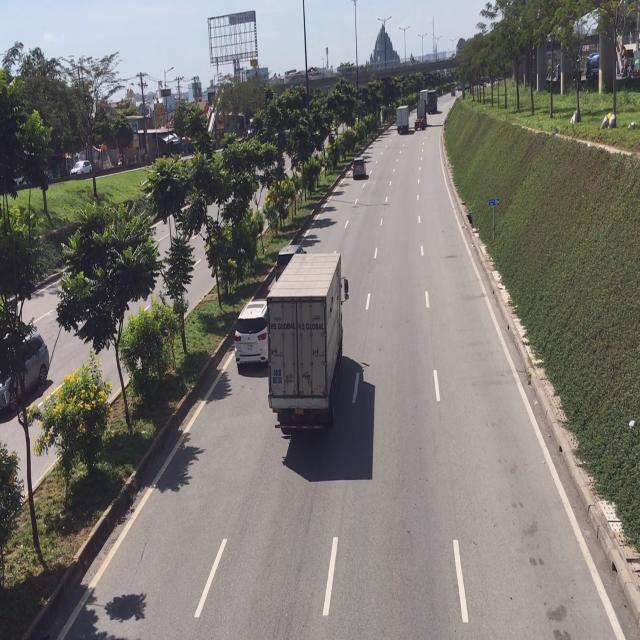car: (232, 288, 269, 369), (352, 153, 366, 179)
truck: (266, 252, 348, 438), (413, 103, 428, 131), (397, 103, 409, 133)
